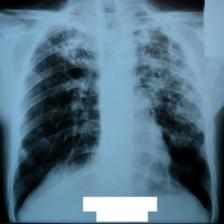tuberculosis: (8, 24, 218, 224)
